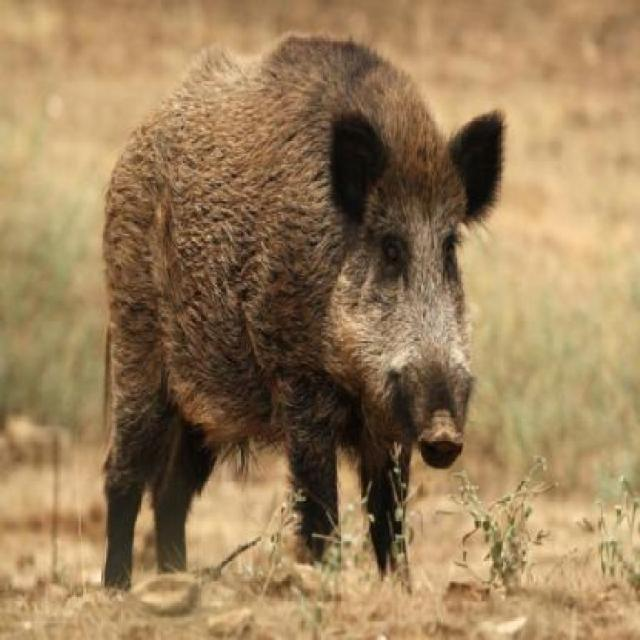wildboar: (95, 26, 510, 600)
